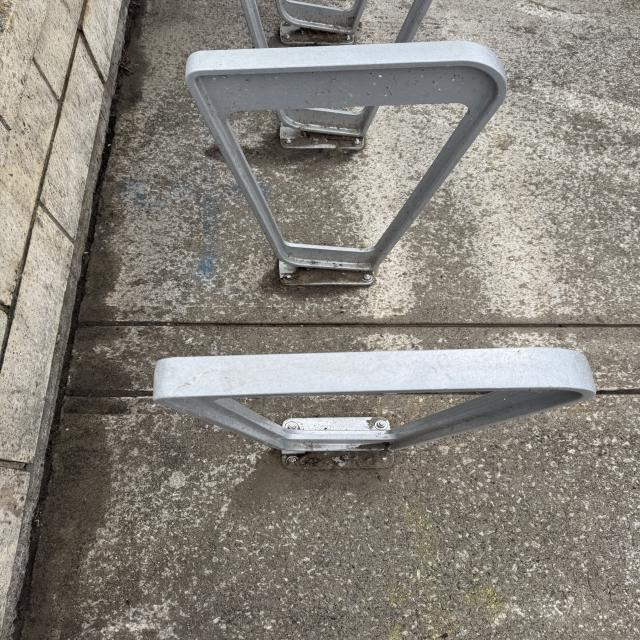Bicycle Rack: (185, 44, 513, 292), (154, 348, 606, 466)
